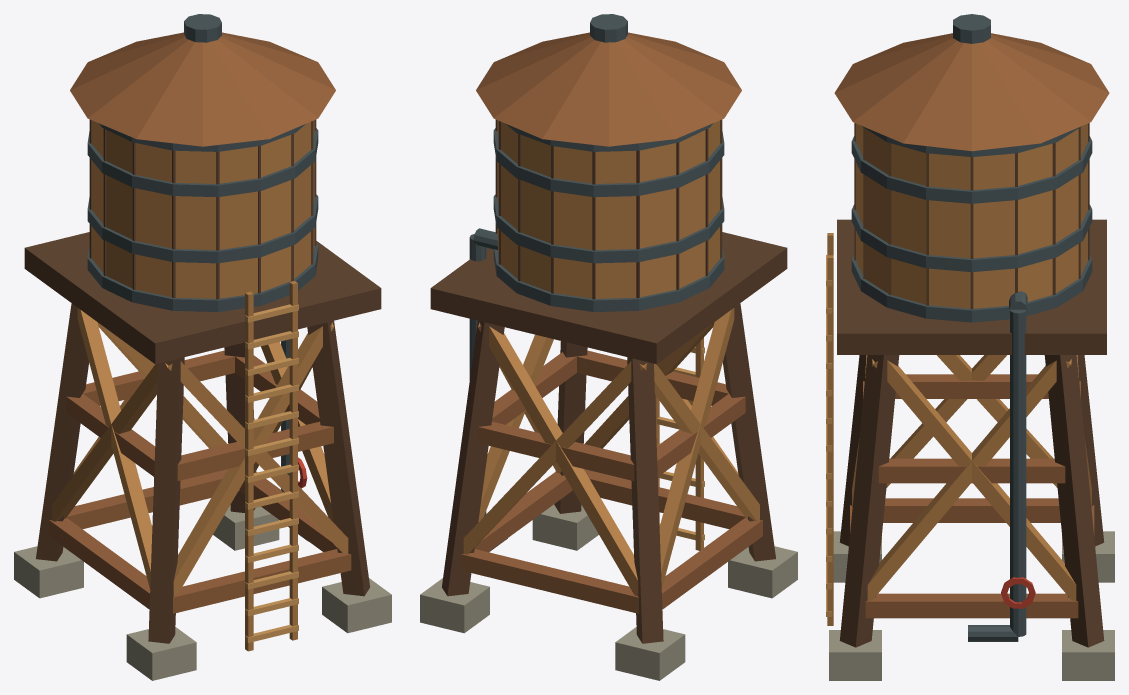
Rendered from water_tower.glb.
3 views of the same model, side by side, from view 1: azimuth 30°, elevation 25°; view 2: azimuth 150°, elevation 25°; view 3: azimuth 270°, elevation 25° (orthographic). The views are drawn at different scales.
Visible parts, largest first — view 1: body__wood2.005, body__wood.005, body__wood_dark.004, body__metal.009, body__stone.004, body__wood3.003; view 2: body__wood2.005, body__wood.005, body__wood_dark.004, body__metal.009, body__stone.004, body__wood3.003; view 3: body__wood2.005, body__wood_dark.004, body__wood.005, body__metal.009, body__stone.004, body__wood3.003, body__red.003.
Boxes of the visible parts, x1,y1,x2,y2 form: body__wood2.005: (52, 120, 348, 651); body__wood.005: (49, 32, 351, 613); body__wood_dark.004: (24, 119, 381, 643); body__metal.009: (87, 14, 318, 541); body__stone.004: (14, 505, 391, 680); body__wood3.003: (245, 304, 298, 642); body__wood2.005: (463, 120, 759, 596); body__wood.005: (460, 32, 762, 613); body__wood_dark.004: (430, 119, 787, 643); body__metal.009: (469, 14, 724, 551); body__stone.004: (420, 504, 797, 680); body__wood3.003: (657, 347, 704, 541); body__wood2.005: (827, 123, 1091, 625); body__wood_dark.004: (837, 123, 1106, 647); body__wood.005: (834, 33, 1109, 618); body__metal.009: (851, 14, 1092, 641); body__stone.004: (829, 531, 1114, 680); body__wood3.003: (826, 255, 832, 616); body__red.003: (1001, 577, 1035, 608).
Size of the model in its own units: 2.16 by 4.99 by 2.18.
